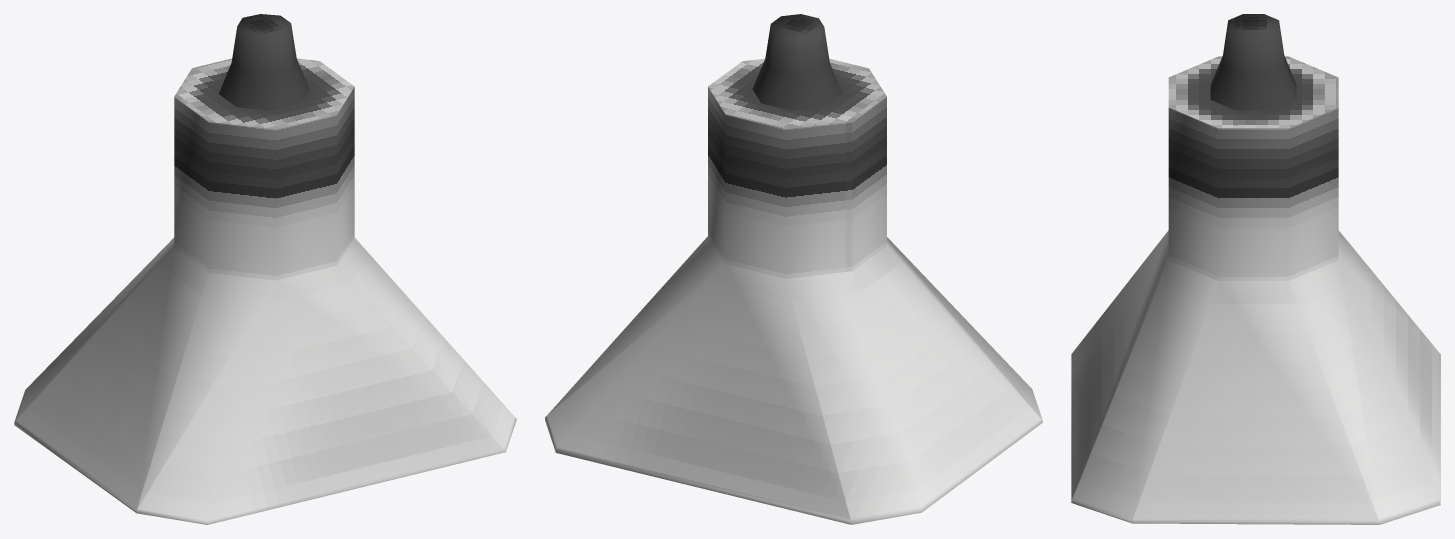
File: vinergartop.fbx
3 renders of one model, left to right at view 1: azimuth 30°, elevation 25°; view 2: azimuth 150°, elevation 25°; view 3: azimuth 270°, elevation 25°, orthographic. The views are drawn at different scales.
Parts seen in each view (by area): view 1: Vinegar; view 2: Vinegar; view 3: Vinegar.
Boxes of the visible parts, <box> form: Vinegar: <box>14,14,516,524</box>; Vinegar: <box>545,14,1042,524</box>; Vinegar: <box>1071,14,1440,524</box>.
Bounding box in the file's own units: 17.19 × 17.32 × 14.29.
